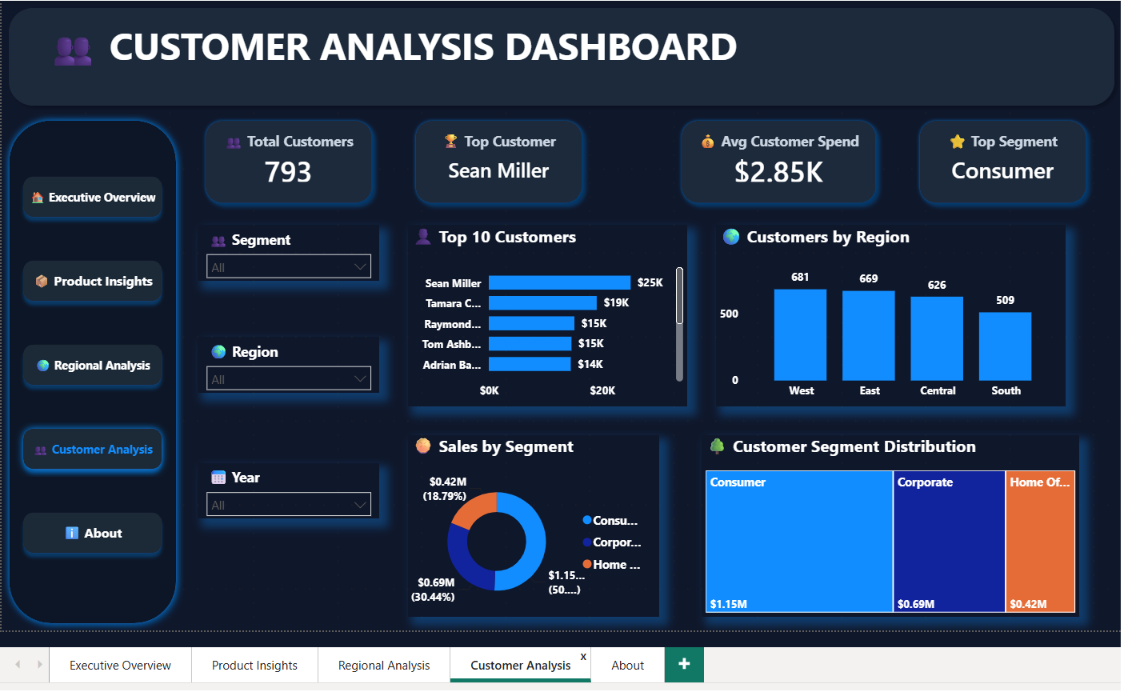

The page's visual inventory and layout, read from the dashboard file:
{"tool":"powerbi","page":{"name":"Customer Analysis","canvas":[1280,720],"ordinal":3},"visuals":[{"type":"shape","box":[0,128,208,592],"z":0},{"type":"actionButton","box":[16,192,170,42],"z":1000},{"type":"actionButton","box":[16,288,170,42],"z":2000},{"type":"actionButton","box":[16,384,170,42],"z":3000},{"type":"actionButton","box":[16,480,170,42],"z":4000},{"type":"actionButton","box":[16,576,170,42],"z":5000},{"type":"shape","box":[0,0,1280,128],"z":6000},{"type":"textbox","box":[48,16,848,96],"z":7000},{"type":"shape","box":[224,128,208,112],"z":8000},{"type":"cardVisual","fields":{"Data":["Sales_Data.Total Customers"]},"box":[240,160,176,64],"z":9000},{"type":"textbox","box":[240,144,176,32],"z":13000},{"type":"shape","box":[768,128,240,112],"z":14000},{"type":"cardVisual","fields":{"Data":["Sales_Data.Average Customer Spend"]},"box":[800,160,176,64],"z":15000},{"type":"textbox","box":[784,144,208,32],"z":16000},{"type":"shape","box":[1040,128,208,112],"z":17000},{"type":"cardVisual","fields":{"Data":["Sales_Data.Top Segment"]},"box":[1056,160,176,64],"z":18000},{"type":"textbox","box":[1056,144,176,32],"z":19000},{"type":"shape","box":[464,128,208,112],"z":19001},{"type":"cardVisual","fields":{"Data":["Sales_Data.Top Customer"]},"box":[480,160,176,64],"z":19002},{"type":"textbox","box":[480,144,176,32],"z":19003},{"type":"slicer","fields":{"Values":["Sales_Data.Segment"]},"box":[224,256,208,64],"z":19004},{"type":"slicer","fields":{"Values":["Sales_Data.Region"]},"box":[224,384,208,64],"z":19005},{"type":"slicer","fields":{"Values":["Sales_Data.Year"]},"box":[224,528,208,64],"z":19006},{"type":"clusteredBarChart","title":"👤 Top 10 Customers","fields":{"Category":["Sales_Data.Customer Name"],"Y":["Sales_Data.Total Sales"]},"box":[464,256,320,208],"z":19007},{"type":"donutChart","title":"🥧 Sales by Segment","fields":{"Category":["Sales_Data.Segment"],"Y":["Sales_Data.Total Sales"]},"box":[464,496,288,208],"z":19008},{"type":"clusteredColumnChart","title":"🌍 Customers by Region","fields":{"Category":["Sales_Data.Region"],"Y":["Sales_Data.Total Customers"]},"box":[816,256,400,208],"z":19009},{"type":"treemap","title":"🌳 Customer Segment Distribution","fields":{"Group":["Sales_Data.Segment"],"Values":["Sales_Data.Total Sales"]},"box":[800,496,432,208],"z":19010}]}

Visuals, with their boxes on the page's 1280x720 design canvas (x1, y1, x2, y2). These are canvas units, not pixel positions in the 1121x691 screenshot, which may show the page scaled, cropped or inside an application window:
shape: 0,128,208,720
actionButton: 16,192,186,234
actionButton: 16,288,186,330
actionButton: 16,384,186,426
actionButton: 16,480,186,522
actionButton: 16,576,186,618
shape: 0,0,1280,128
textbox: 48,16,896,112
shape: 224,128,432,240
cardVisual - Sales_Data.Total Customers: 240,160,416,224
textbox: 240,144,416,176
shape: 768,128,1008,240
cardVisual - Sales_Data.Average Customer Spend: 800,160,976,224
textbox: 784,144,992,176
shape: 1040,128,1248,240
cardVisual - Sales_Data.Top Segment: 1056,160,1232,224
textbox: 1056,144,1232,176
shape: 464,128,672,240
cardVisual - Sales_Data.Top Customer: 480,160,656,224
textbox: 480,144,656,176
slicer - Sales_Data.Segment: 224,256,432,320
slicer - Sales_Data.Region: 224,384,432,448
slicer - Sales_Data.Year: 224,528,432,592
"👤 Top 10 Customers" clusteredBarChart: 464,256,784,464
"🥧 Sales by Segment" donutChart: 464,496,752,704
"🌍 Customers by Region" clusteredColumnChart: 816,256,1216,464
"🌳 Customer Segment Distribution" treemap: 800,496,1232,704
